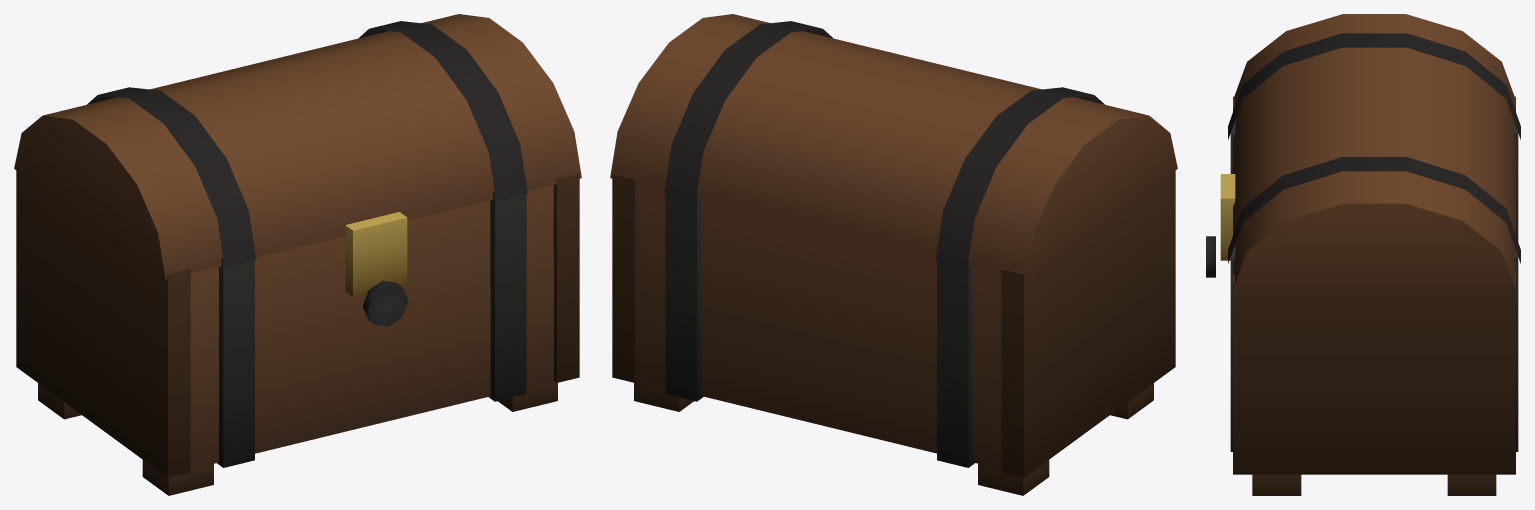
Rendered from chest.glb.
3 views of the same model, side by side, from view 1: azimuth 30°, elevation 25°; view 2: azimuth 150°, elevation 25°; view 3: azimuth 270°, elevation 25° (orthographic). The views are drawn at different scales.
Parts seen in each view (by area): view 1: chest_trim; view 2: chest_trim; view 3: chest_trim.
Part boxes in pixels (x1=…): chest_trim: x1=14, y1=14, x2=581, y2=495; chest_trim: x1=610, y1=14, x2=1177, y2=495; chest_trim: x1=1206, y1=14, x2=1520, y2=495.
Size of the model in its own units: 0.92 by 0.6896 by 0.645.
